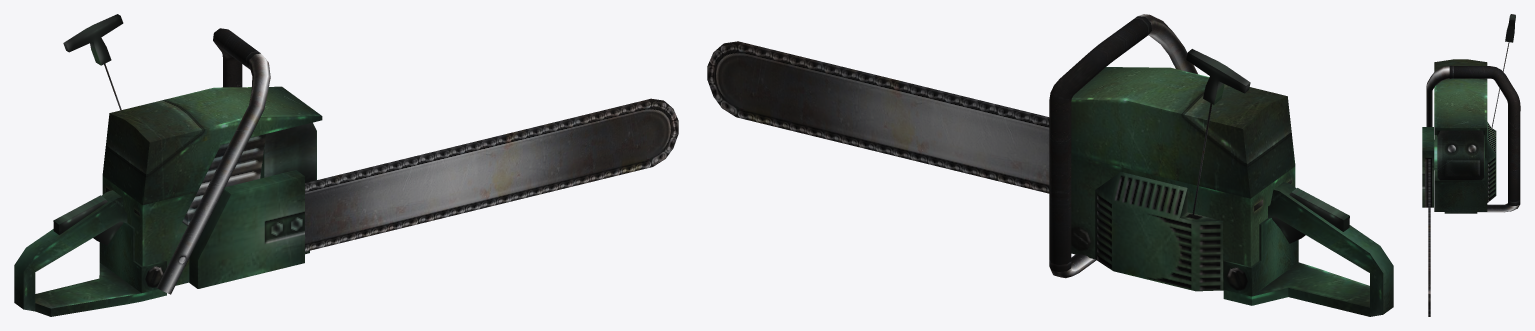
Rendered from chainsaw.fbx.
3 views of the same model, side by side, from view 1: azimuth 30°, elevation 25°; view 2: azimuth 150°, elevation 25°; view 3: azimuth 270°, elevation 25° (orthographic). The views are drawn at different scales.
Parts seen in each view (by area): view 1: mqo_mesh; view 2: mqo_mesh; view 3: mqo_mesh.
Part boxes in pixels (x1,y1,x2,y2): mqo_mesh: [14, 14, 678, 316]; mqo_mesh: [707, 14, 1393, 316]; mqo_mesh: [1422, 14, 1520, 316].
Bounding box in the file's own units: 294 × 104 × 59.72.
